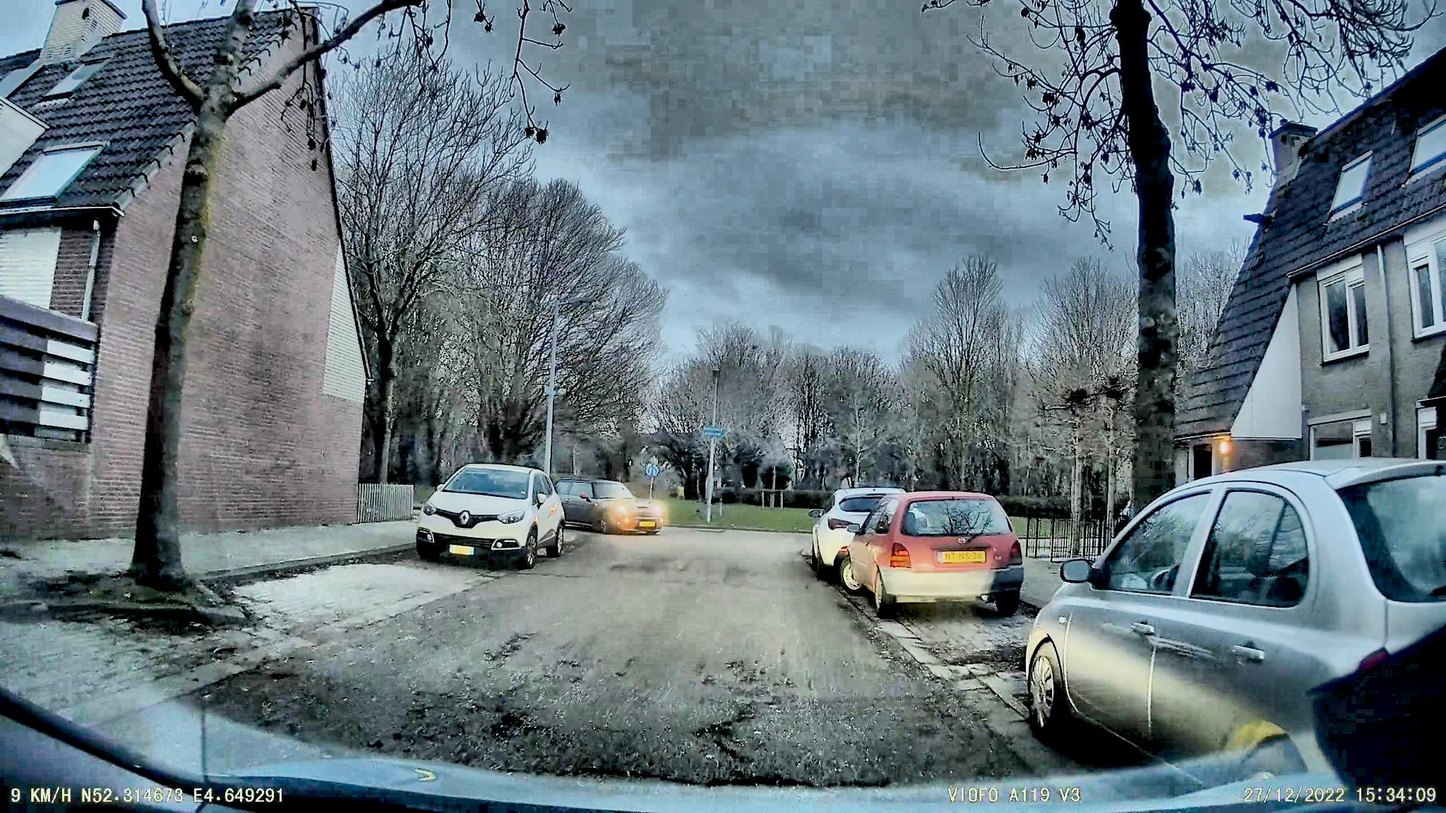Roads: (0, 532, 1077, 813)
